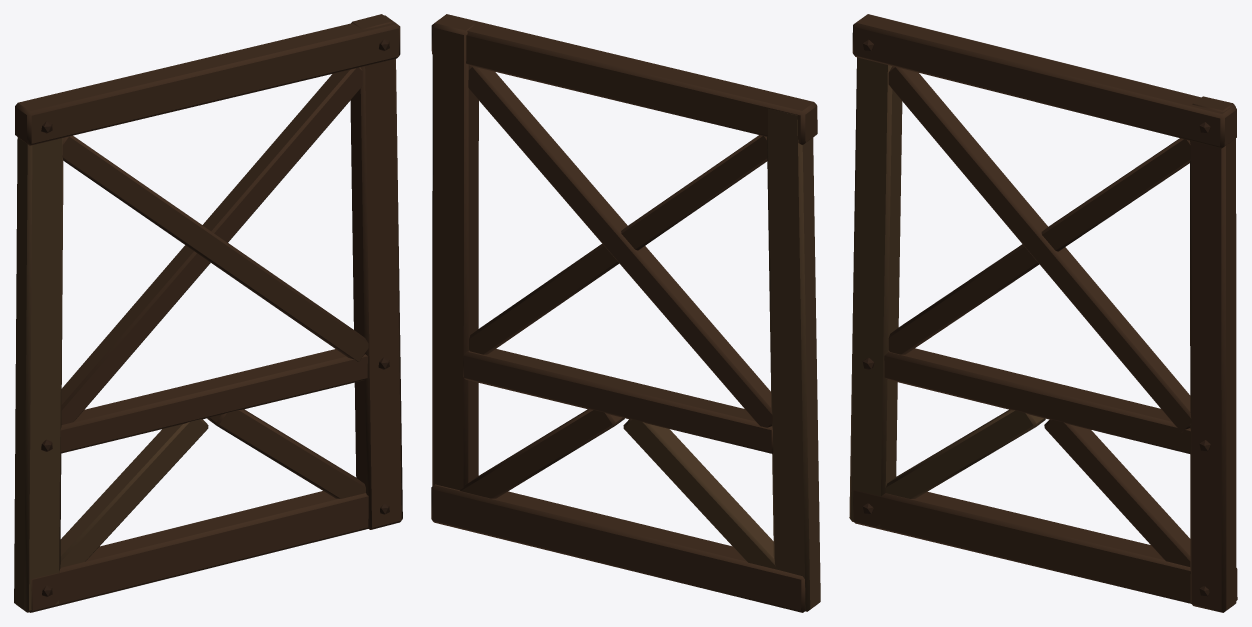
File: timber_bay_cross.glb
3 views of the same model, side by side, from view 1: azimuth 30°, elevation 25°; view 2: azimuth 150°, elevation 25°; view 3: azimuth 330°, elevation 25° (orthographic).
Visible parts, largest first — view 1: timber_bay_cross; view 2: timber_bay_cross; view 3: timber_bay_cross.
Part boxes in pixels (<box>): timber_bay_cross: <box>14,14,402,612</box>; timber_bay_cross: <box>431,14,820,612</box>; timber_bay_cross: <box>849,14,1237,612</box>.
Bounding box in the file's own units: 2.53 × 3.21 × 0.2257.
